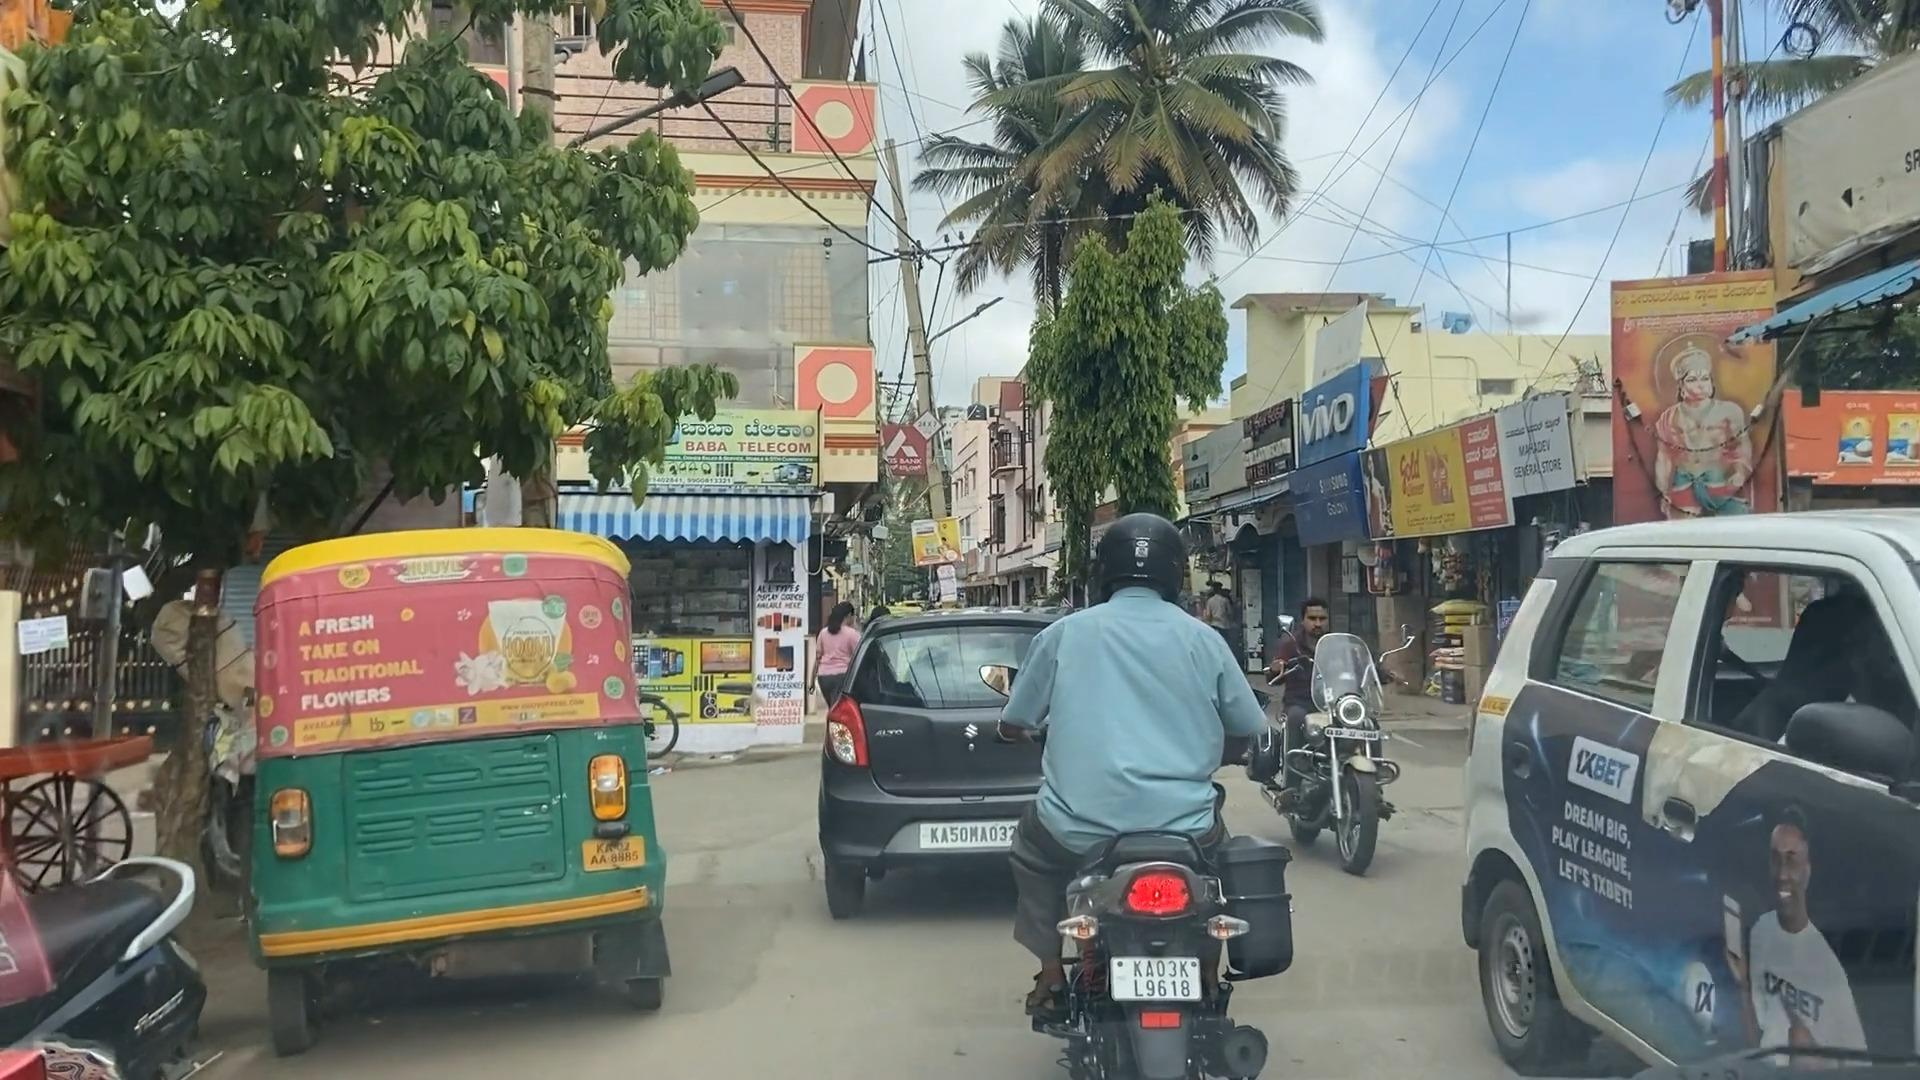LMV: (260, 545, 669, 1011), (1040, 516, 1244, 1080)
RoadDamages: (700, 824, 791, 1017)
